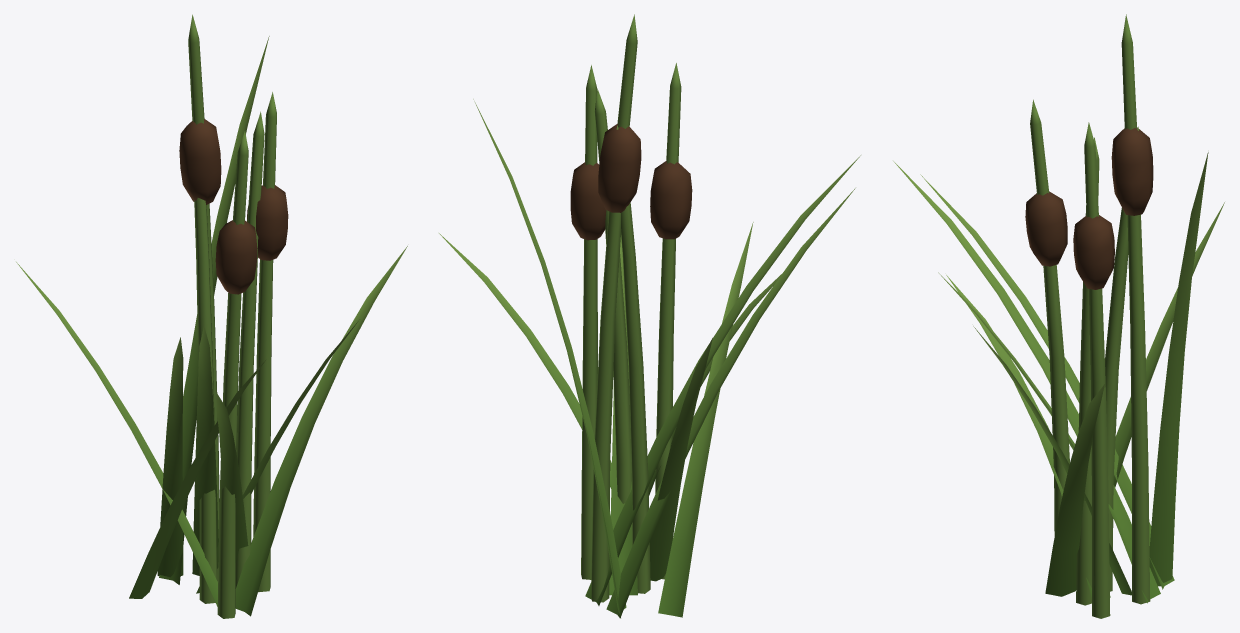
File: decor_roseau_toutes_1.glb
3 views of the same model, side by side, from view 1: azimuth 30°, elevation 25°; view 2: azimuth 150°, elevation 25°; view 3: azimuth 270°, elevation 25° (orthographic). The views are drawn at different scales.
Parts seen in each view (by area): view 1: herbe, epis; view 2: herbe, epis; view 3: herbe, epis.
Boxes of the visible parts, left/top/right/bottom form: herbe: left=16, top=14, right=407, bottom=618; epis: left=179, top=119, right=288, bottom=294; herbe: left=439, top=14, right=860, bottom=618; epis: left=570, top=124, right=692, bottom=240; herbe: left=893, top=14, right=1224, bottom=618; epis: left=1025, top=127, right=1153, bottom=289.
Size of the model in its own units: 0.1666 by 0.2762 by 0.146.
